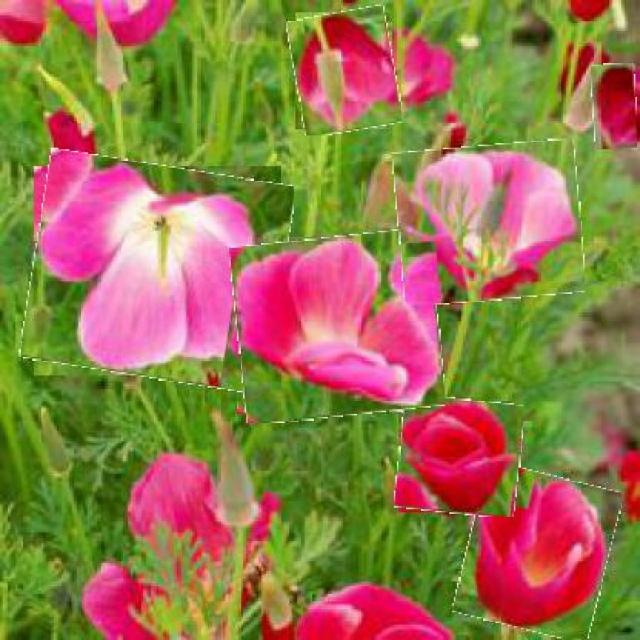Flower: (26, 158, 289, 385), (233, 232, 442, 420), (396, 142, 584, 304), (460, 467, 615, 636), (397, 397, 521, 517), (291, 9, 398, 134), (593, 64, 639, 151)
